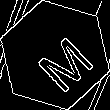M_NW: (20, 21, 90, 89)
